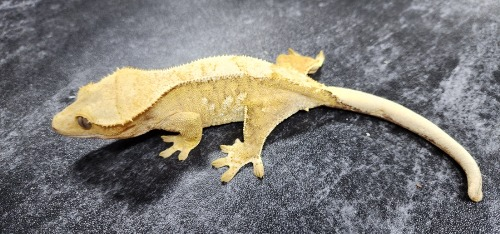analyzer_lateral: (151, 76, 329, 127)
